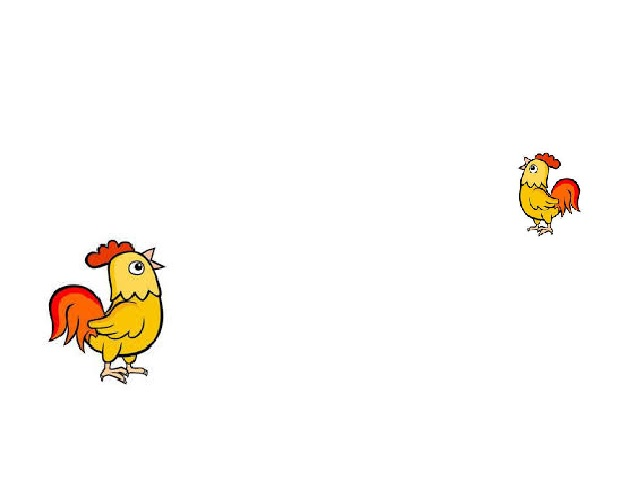crown: (83, 241, 132, 264), (540, 153, 561, 166)
eyes: (126, 259, 143, 274), (529, 164, 539, 177)
feet: (100, 359, 150, 387), (525, 223, 561, 241)
tail: (45, 291, 99, 347), (549, 179, 581, 216)
